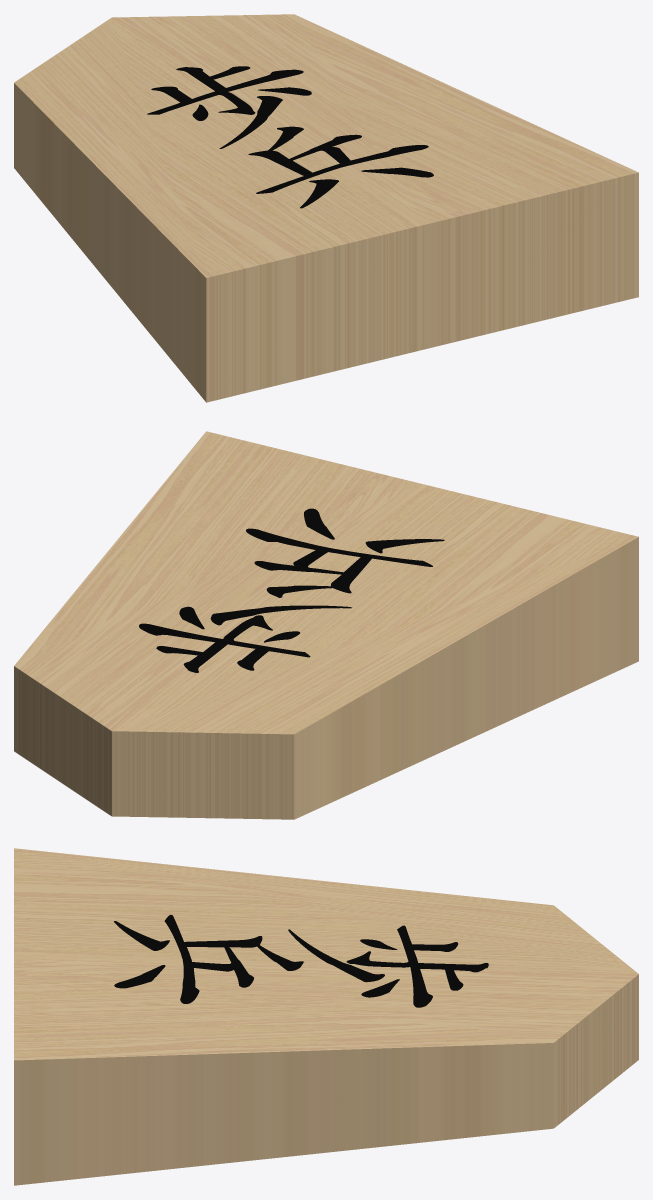
Rendered from fuhyo.fbx.
3 renders of one model, top to bottom at view 1: azimuth 30°, elevation 25°; view 2: azimuth 150°, elevation 25°; view 3: azimuth 270°, elevation 25°, orthographic.
Visible parts, largest first — view 1: fuhyo.001; view 2: fuhyo.001; view 3: fuhyo.001.
Part boxes in pixels (left/top/right/bottom): fuhyo.001: left=14, top=14, right=638, bottom=402; fuhyo.001: left=14, top=431, right=638, bottom=819; fuhyo.001: left=14, top=848, right=638, bottom=1185.
Bounding box in the file's own units: 349 × 96.03 × 434.
